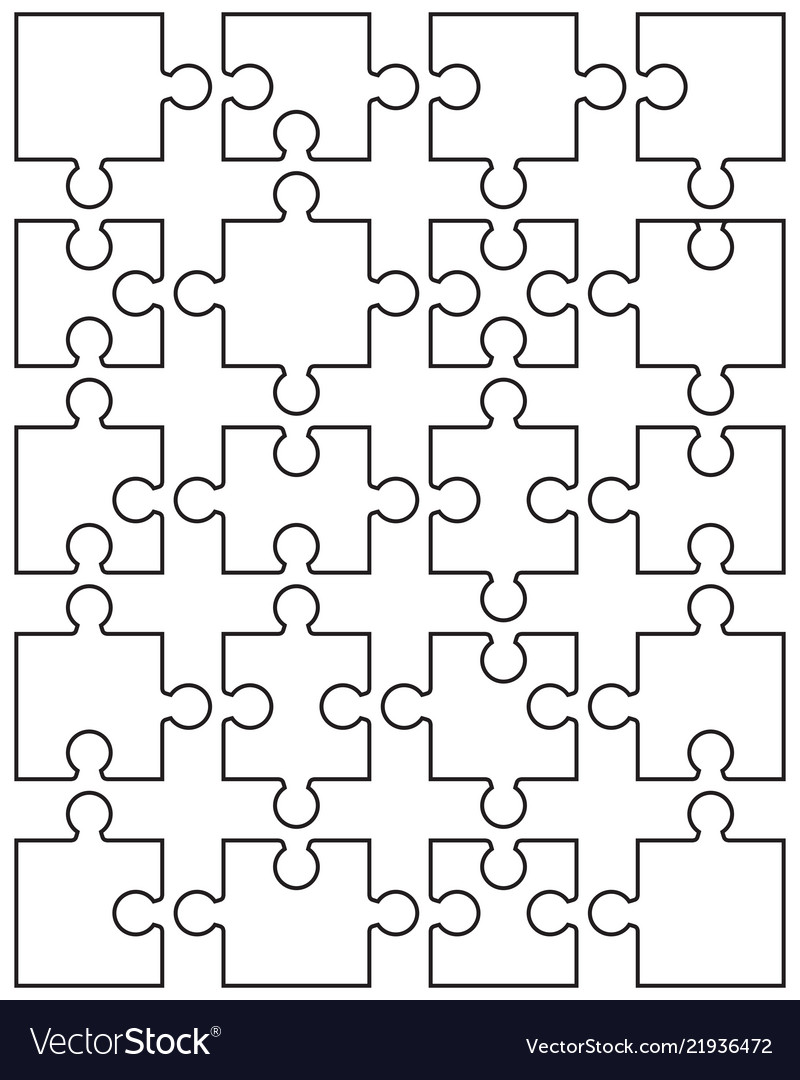puzzle piece: (7, 4, 224, 213)
